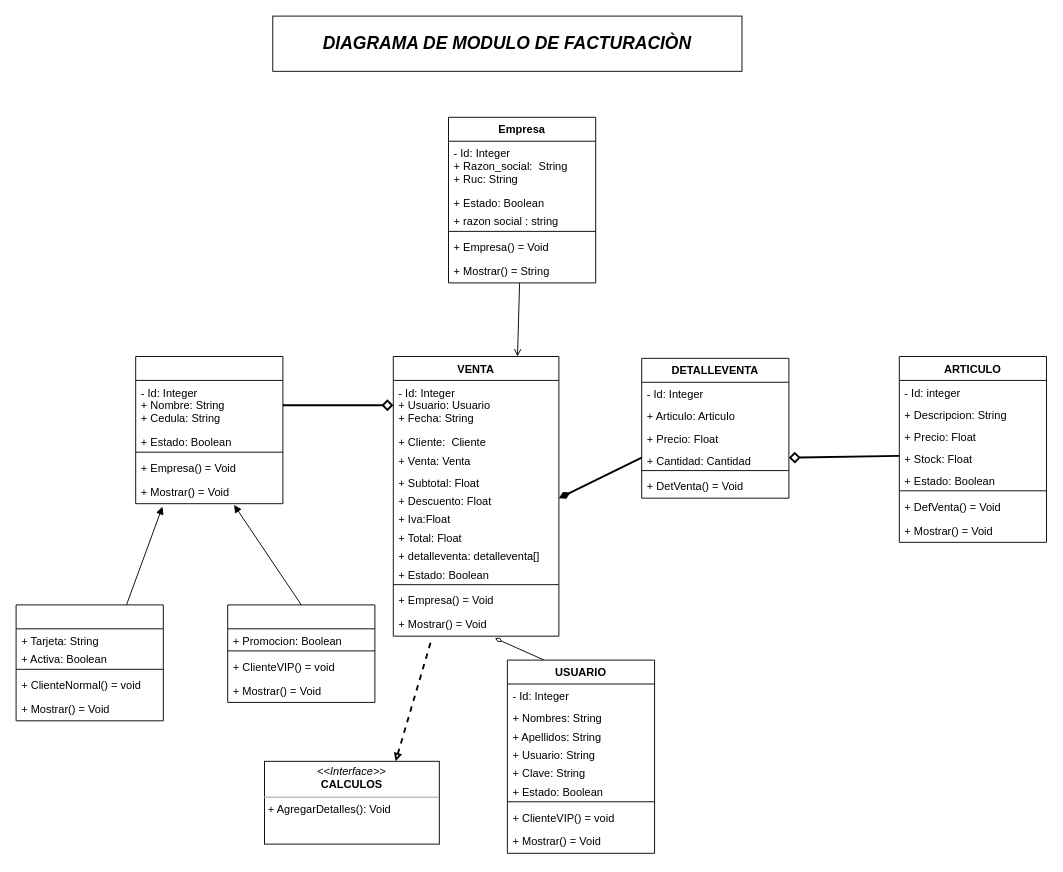
Image size: 1063x872. Some labels were removed from this diagram. Each missing label, with the box of its shape:
CLIENTE: (135, 356, 283, 504)
CLIENTENORMAL: (227, 604, 375, 702)
CLIENTEVIP: (15, 604, 163, 721)
